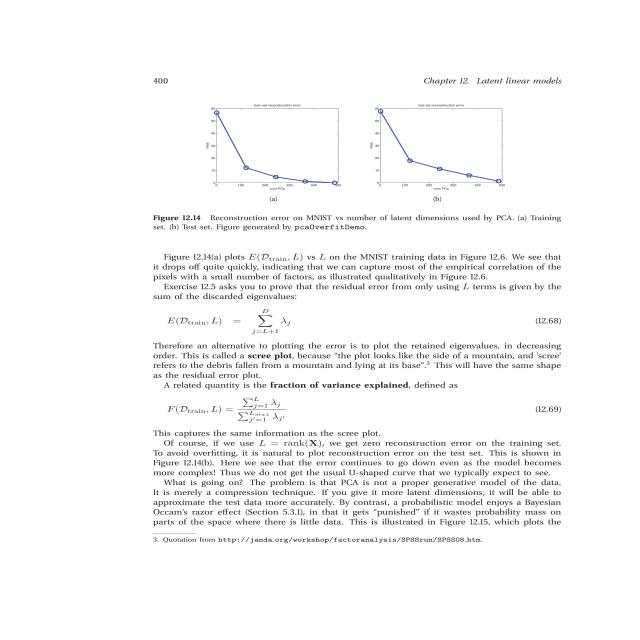diagram: (89, 93, 607, 242)
